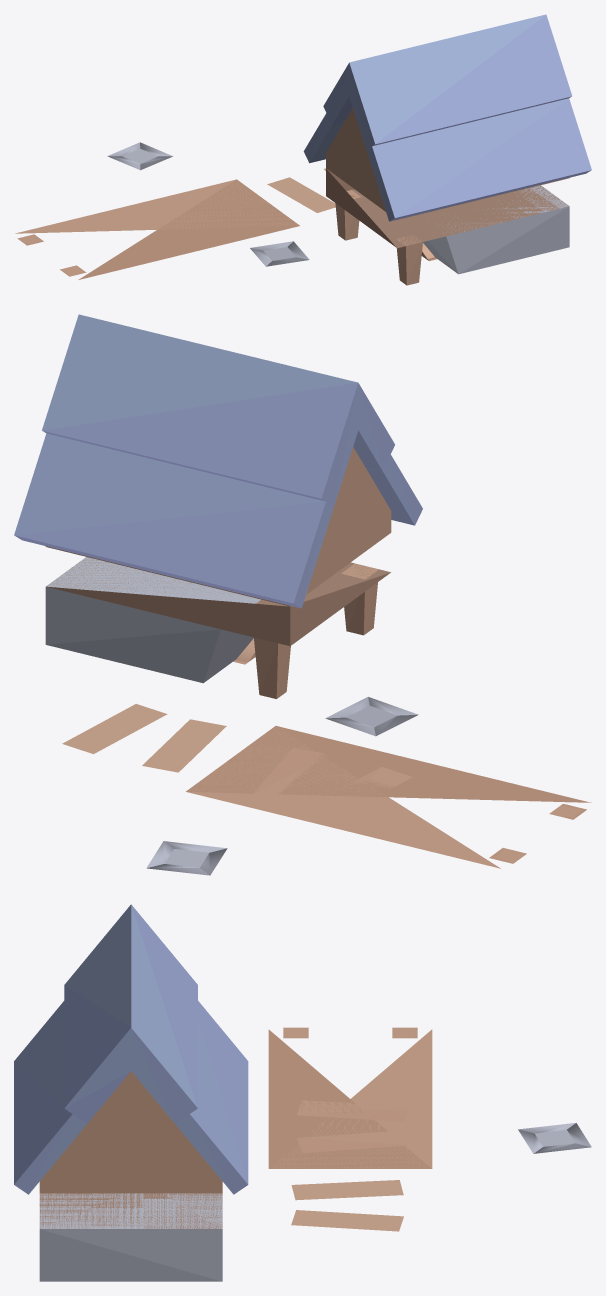
File: building-port.glb
3 views of the same model, one above another, from view 1: azimuth 30°, elevation 25°; view 2: azimuth 150°, elevation 25°; view 3: azimuth 270°, elevation 25° (orthographic). The views are drawn at different scales.
Parts seen in each view (by area): view 1: building-port; view 2: building-port; view 3: building-port.
Boxes of the visible parts, left/top/right/bottom form: building-port: left=15, top=14, right=591, bottom=285; building-port: left=14, top=314, right=591, bottom=875; building-port: left=14, top=904, right=591, bottom=1281.
Bounding box in the file's own units: 0.8527 × 0.3976 × 0.7955.
